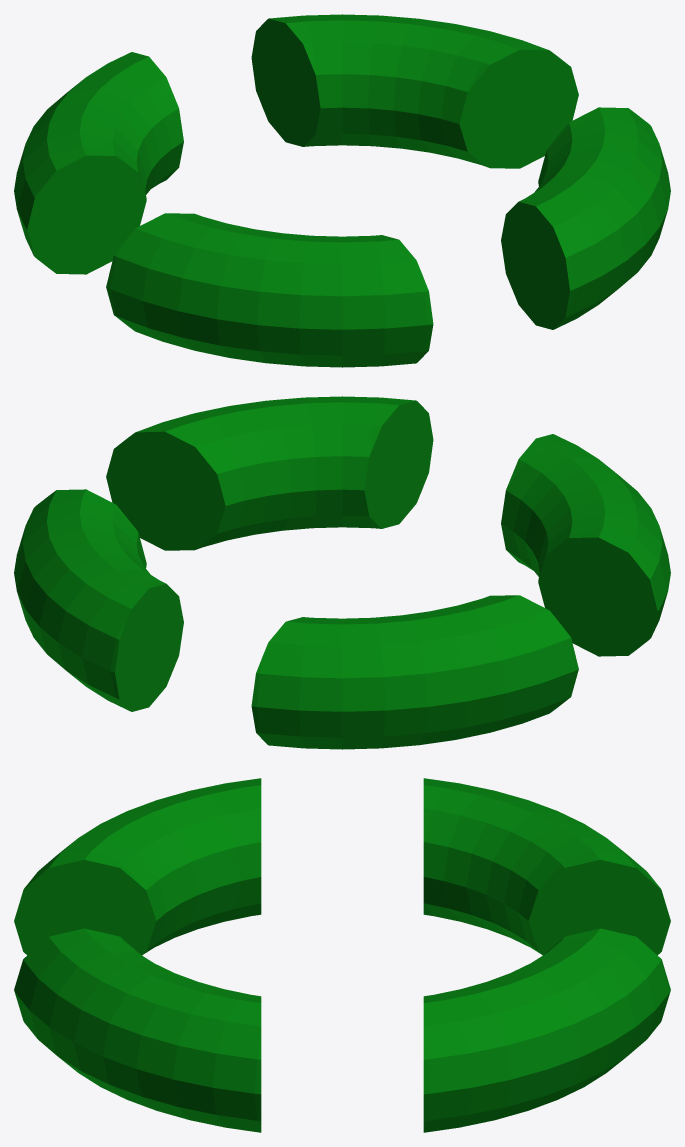
Rendered from reticle.glb.
3 renders of one model, top to bottom at view 1: azimuth 30°, elevation 25°; view 2: azimuth 150°, elevation 25°; view 3: azimuth 270°, elevation 25°, orthographic. The views are drawn at different scales.
Visible parts, largest first — view 1: Torus.004; view 2: Torus.004; view 3: Torus.004.
Boxes of the visible parts, x1,y1,x2,y2 form: Torus.004: [14, 14, 670, 367]; Torus.004: [14, 396, 670, 749]; Torus.004: [14, 778, 670, 1132].
Bounding box in the file's own units: 0.4848 × 0.1 × 0.4848.
